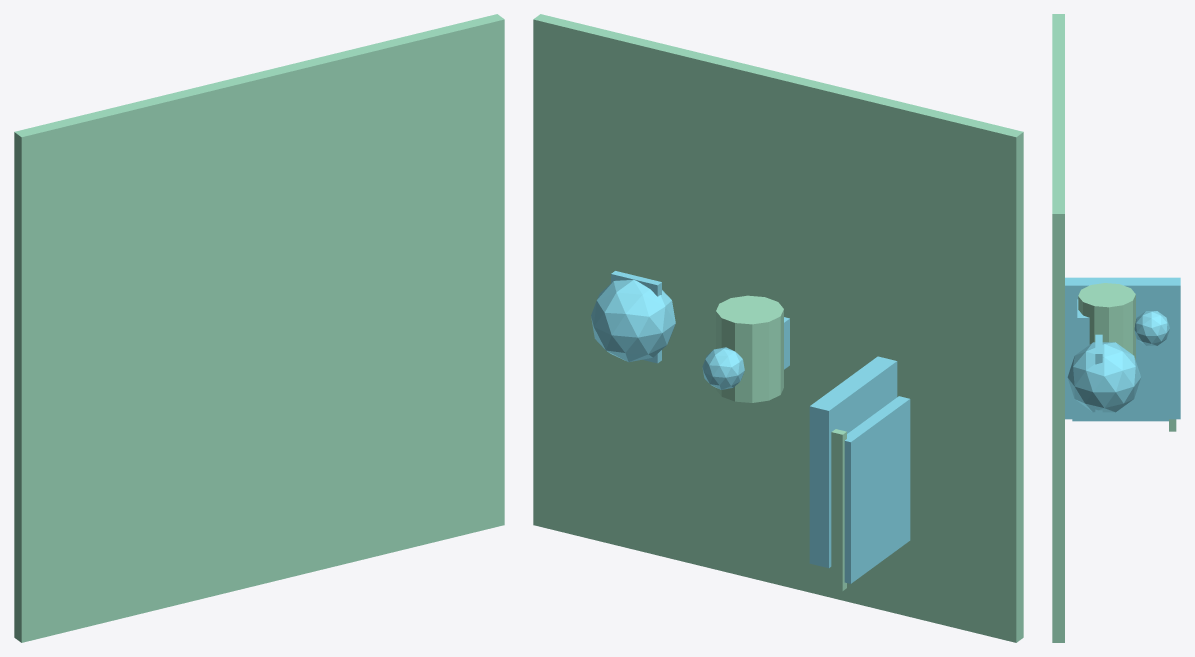
File: boids-sanctuary-kit.glb
3 views of the same model, side by side, from view 1: azimuth 30°, elevation 25°; view 2: azimuth 150°, elevation 25°; view 3: azimuth 270°, elevation 25° (orthographic). The views are drawn at different scales.
Parts seen in each view (by area): view 1: ENVIRONMENT_GROUND; view 2: ENVIRONMENT_GROUND, PROFILE_ENVIRONMENT_DETAIL, ENVIRONMENT_PANEL, PLAYER_BODY, OBSTACLE, PROFILE_ENVIRONMENT_TRIM, PLAYER_CORE; view 3: ENVIRONMENT_GROUND, ENVIRONMENT_PANEL, OBSTACLE, PLAYER_BODY, PLAYER_CORE, PROFILE_PLAYER_DETAIL, PROFILE_OBSTACLE_DETAIL, PROFILE_ENVIRONMENT_DETAIL.
Part boxes in pixels (x1,y1,x2,y2): ENVIRONMENT_GROUND: [14, 14, 504, 642]; ENVIRONMENT_GROUND: [533, 14, 1023, 642]; PROFILE_ENVIRONMENT_DETAIL: [844, 396, 910, 583]; ENVIRONMENT_PANEL: [809, 356, 897, 568]; PLAYER_BODY: [716, 295, 783, 402]; OBSTACLE: [591, 279, 675, 362]; PROFILE_ENVIRONMENT_TRIM: [827, 429, 846, 591]; PLAYER_CORE: [702, 347, 744, 389]; ENVIRONMENT_GROUND: [1052, 14, 1064, 642]; ENVIRONMENT_PANEL: [1065, 277, 1180, 419]; OBSTACLE: [1067, 342, 1140, 412]; PLAYER_BODY: [1078, 283, 1135, 360]; PLAYER_CORE: [1134, 311, 1169, 345]; PROFILE_PLAYER_DETAIL: [1077, 299, 1089, 353]; PROFILE_OBSTACLE_DETAIL: [1095, 334, 1102, 420]; PROFILE_ENVIRONMENT_DETAIL: [1072, 419, 1168, 421].
Bounding box in the file's own units: 9 × 9 × 2.44.
